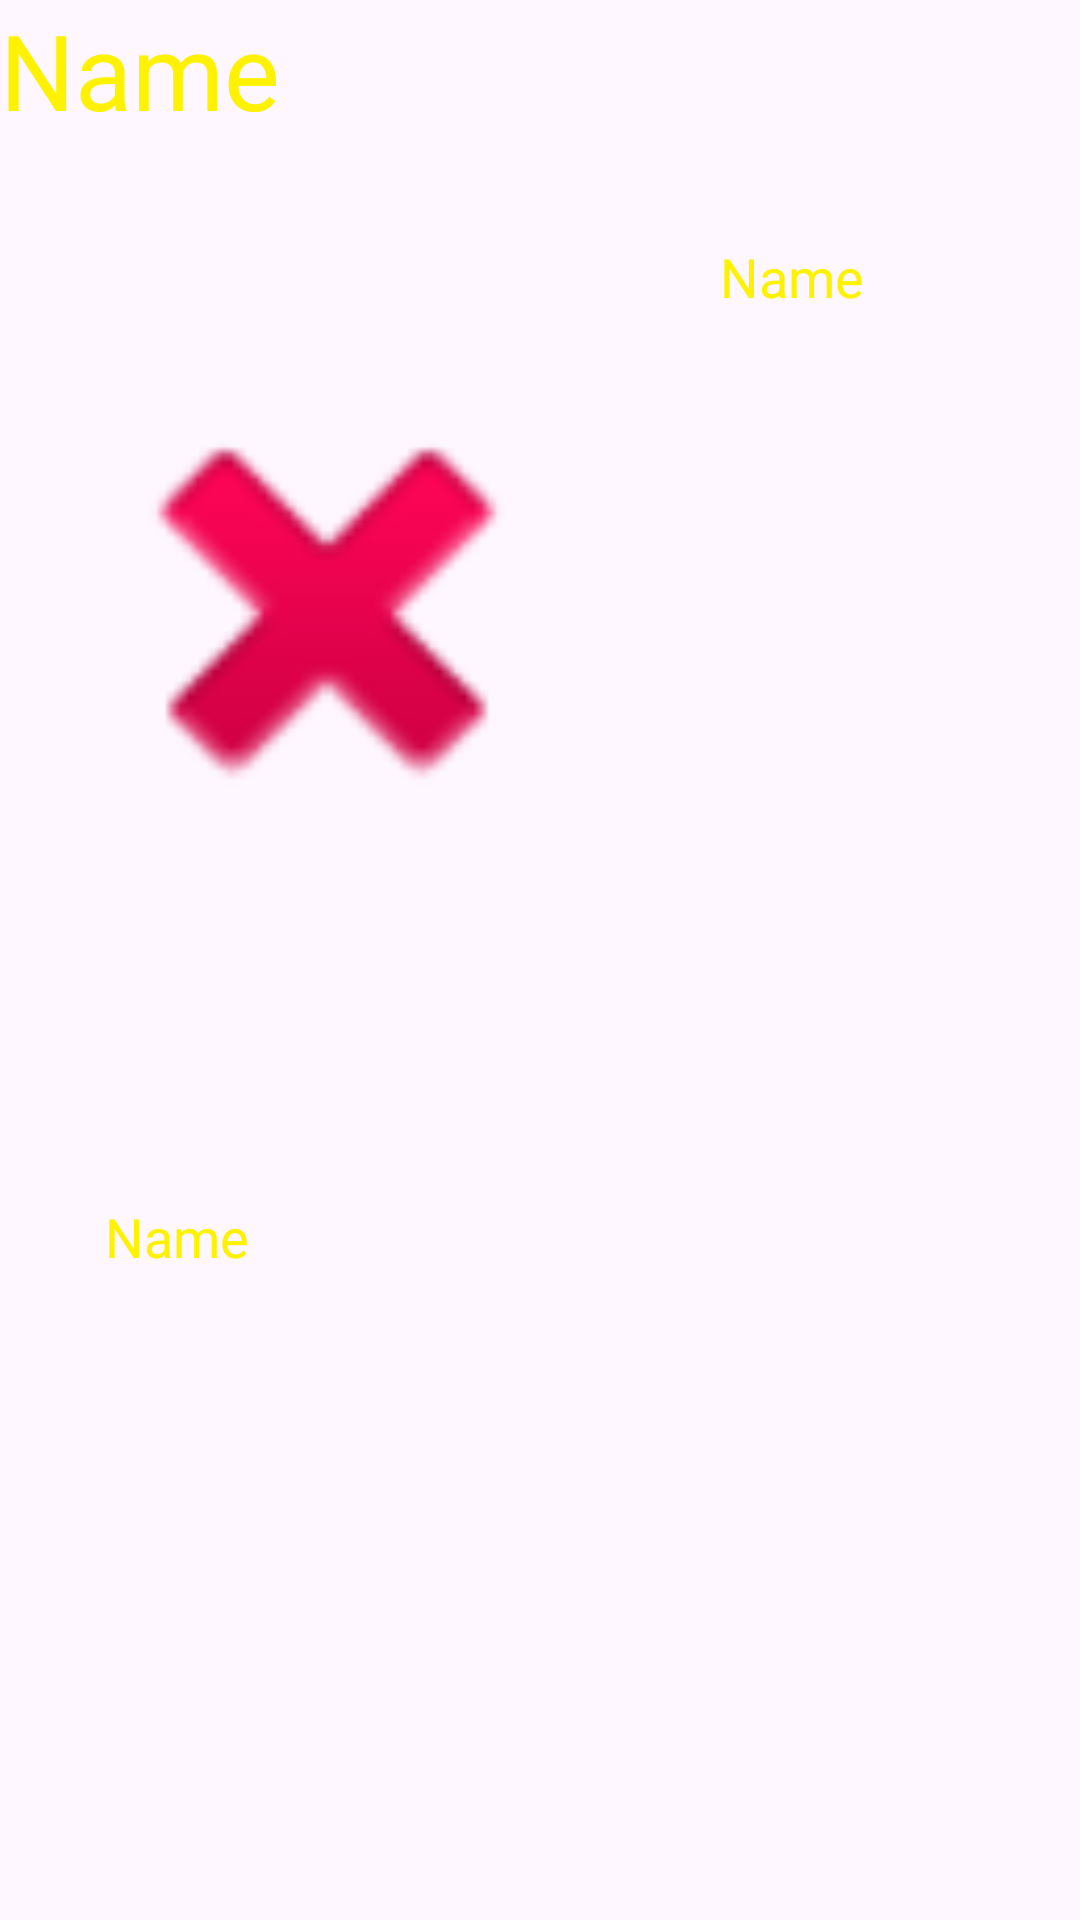

Where to tap for icons on this 1080*1920 app screen, as point (x, y):
delete: point (327, 611)
